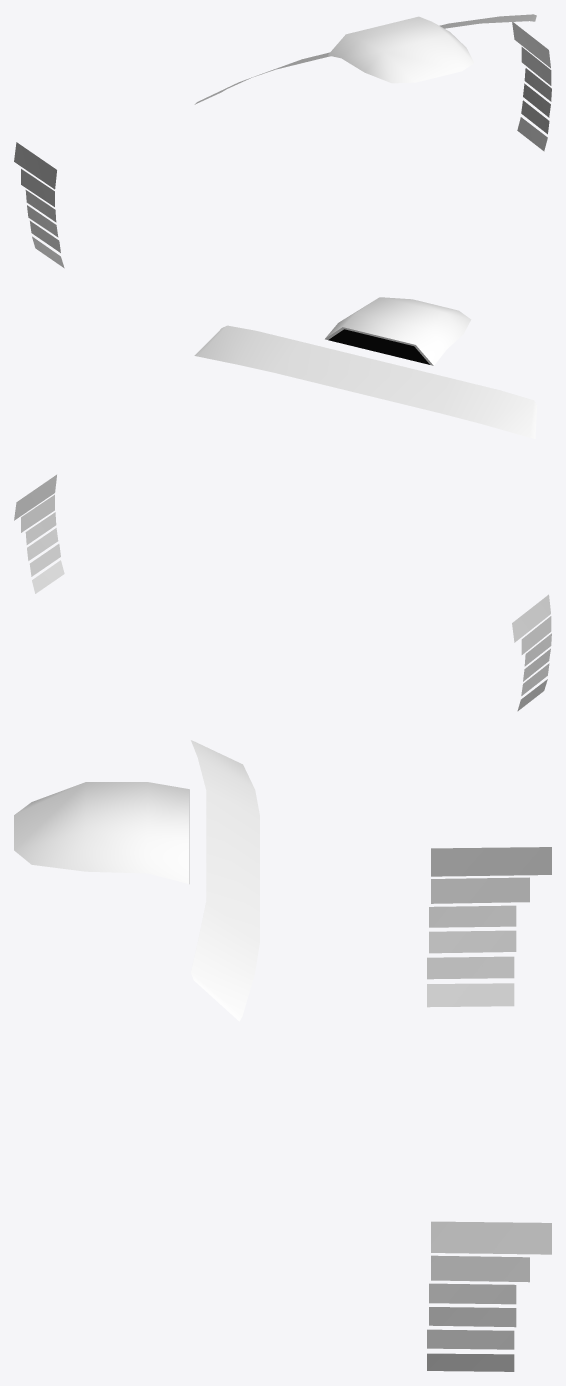
3 views of the same model, one above another, from view 1: azimuth 30°, elevation 25°; view 2: azimuth 150°, elevation 25°; view 3: azimuth 270°, elevation 25° (orthographic). The views are drawn at different scales.
Parts seen in each view (by area): view 1: rf_a_j; view 2: rf_a_j; view 3: rf_a_j.
Part boxes in pixels (box(x1,y1,x2,y2)): rf_a_j: box(14, 14, 551, 268); rf_a_j: box(14, 297, 551, 711); rf_a_j: box(14, 740, 551, 1371).
Size of the model in its own units: 2.2 by 1.03 by 1.31.
Materials: 3 (3 with a texture image).
